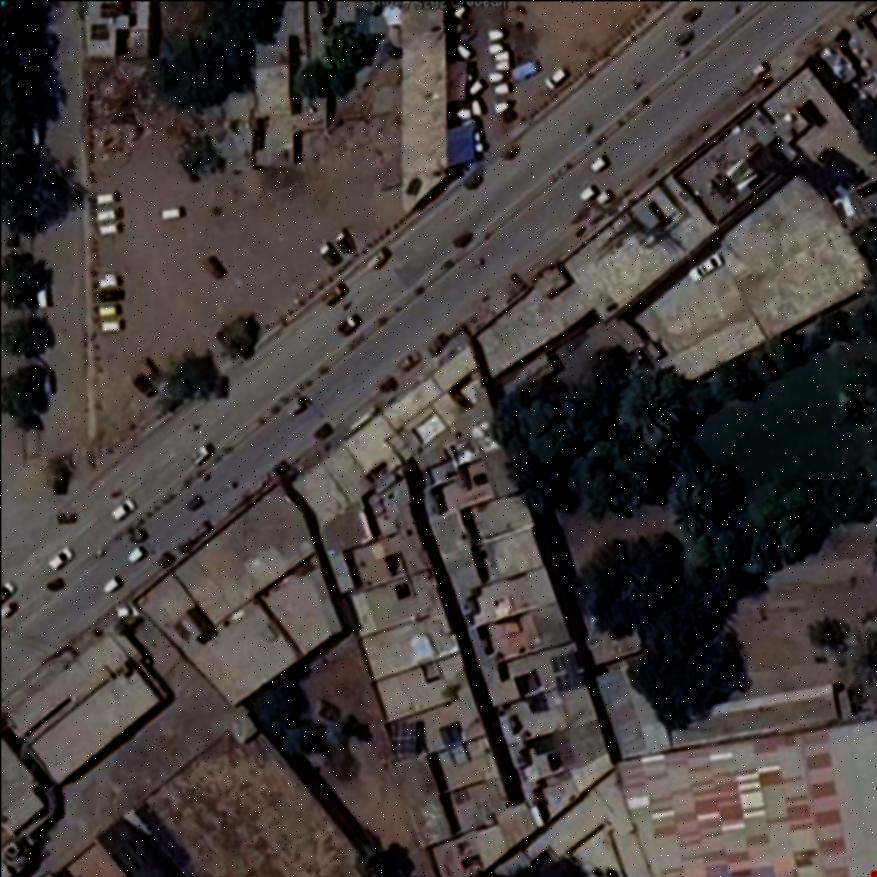Solarpanel: (391, 722, 419, 756)
